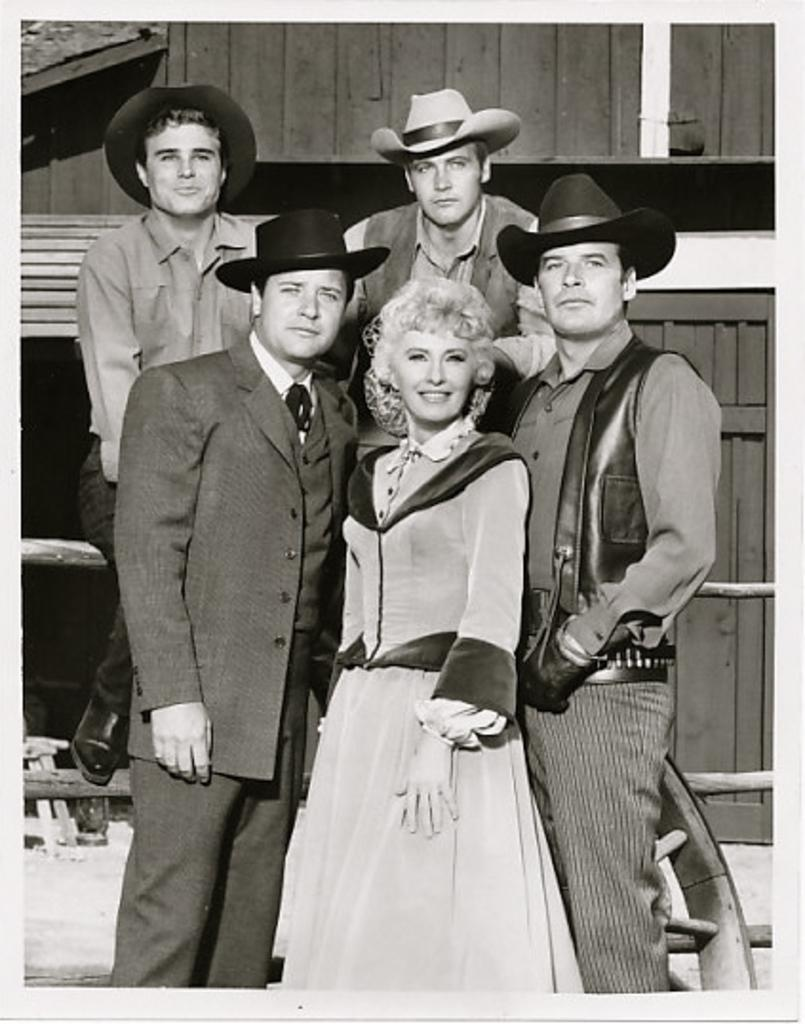Hat: (492, 172, 678, 280), (104, 84, 256, 206), (216, 210, 386, 290), (375, 86, 523, 166)
